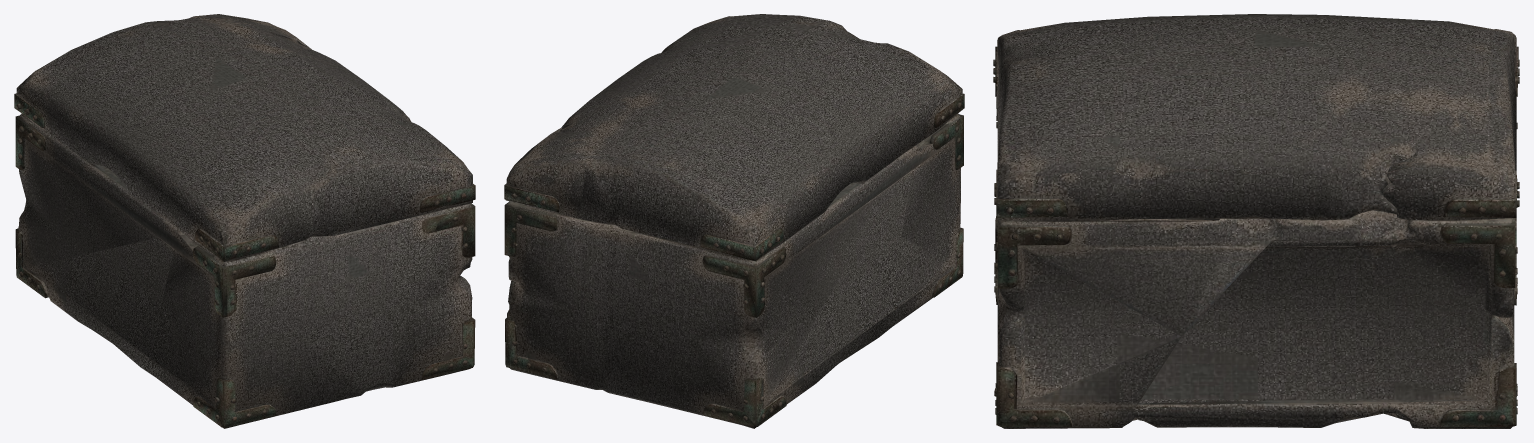
Rendered from tripo_convert_929f2f97-cbec-4ad1-b9c1-1af5db09956c.fbx.
3 renders of one model, left to right at view 1: azimuth 30°, elevation 25°; view 2: azimuth 150°, elevation 25°; view 3: azimuth 270°, elevation 25°, orthographic. The views are drawn at different scales.
Parts seen in each view (by area): view 1: tripo_node_929f2f97; view 2: tripo_node_929f2f97; view 3: tripo_node_929f2f97.
Boxes of the visible parts, left/top/right/bottom form: tripo_node_929f2f97: left=14, top=14, right=475, bottom=428; tripo_node_929f2f97: left=504, top=14, right=964, bottom=428; tripo_node_929f2f97: left=993, top=14, right=1519, bottom=428.
Bounding box in the file's own units: 0.7012 × 0.6465 × 0.998.
Materials: 1 (1 with a texture image).
